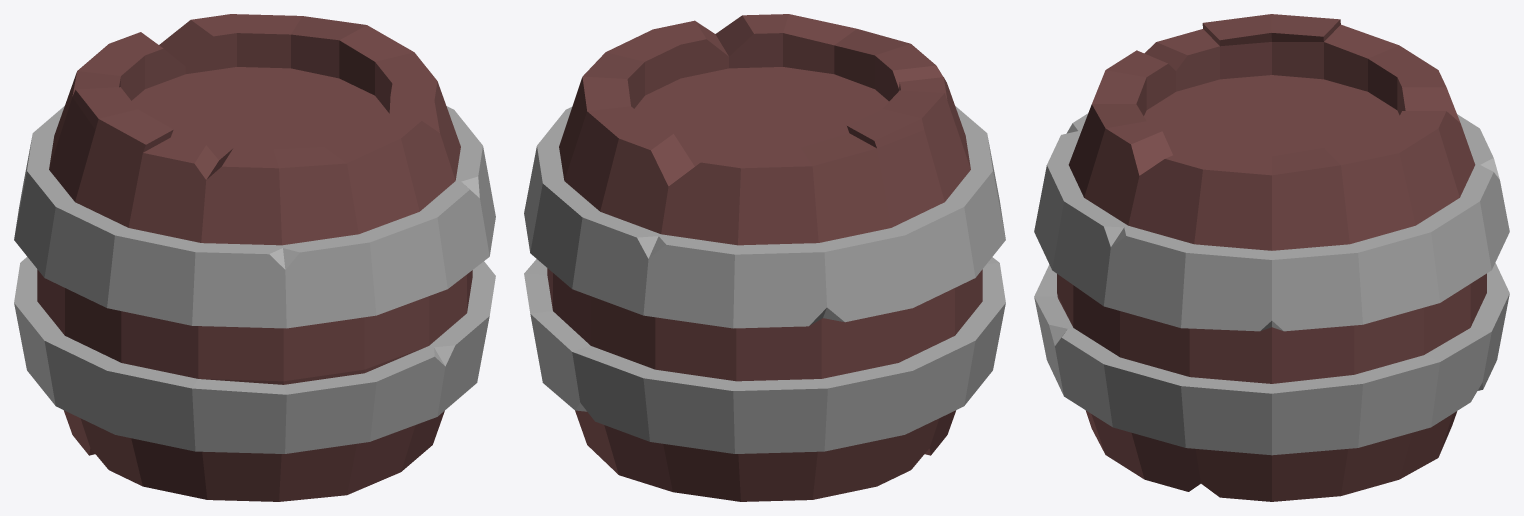
The model's file is low_polly_barrel.glb.
3 renders of one model, left to right at view 1: azimuth 30°, elevation 25°; view 2: azimuth 150°, elevation 25°; view 3: azimuth 270°, elevation 25°, orthographic. The views are drawn at different scales.
Visible parts, largest first — view 1: Cylinder.003; view 2: Cylinder.003; view 3: Cylinder.003.
Boxes of the visible parts, bbox=[...] form: Cylinder.003: bbox=[14, 14, 495, 501]; Cylinder.003: bbox=[524, 14, 1005, 501]; Cylinder.003: bbox=[1034, 14, 1509, 501].
Bounding box in the file's own units: 2.64 × 2.08 × 2.64.
